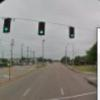traffic lights: (2, 16, 12, 34), (38, 20, 45, 37), (70, 24, 76, 40)
